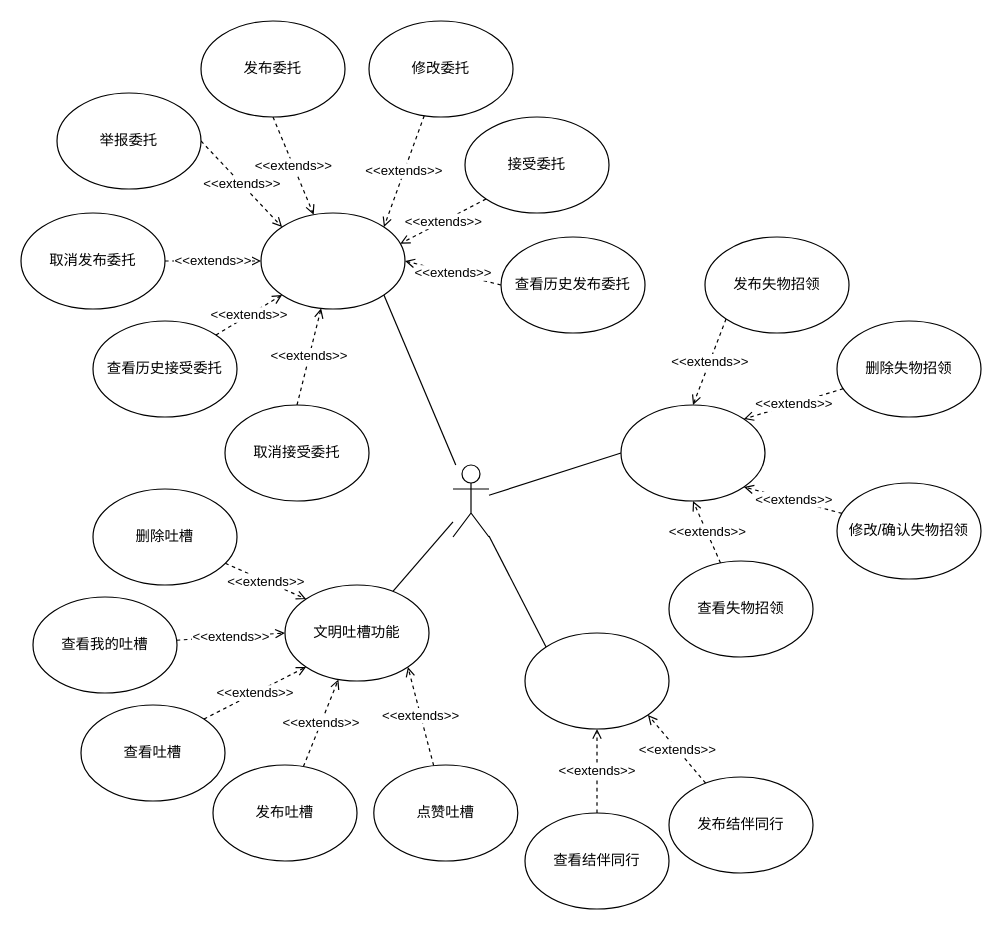
This 1002x930 diagram has some shape labels left out. The shapes that lost their labels are listed below. From the top down, each one's centre as x and y in pixels, then its label:
At pixel 332 260: "委托功能".
At pixel 692 452: "失物招领功能".
At pixel 470 500: "用户".
At pixel 596 680: "结伴同行功能".
